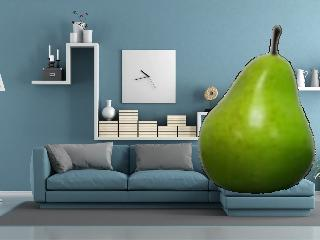pear: (192, 21, 320, 194)
